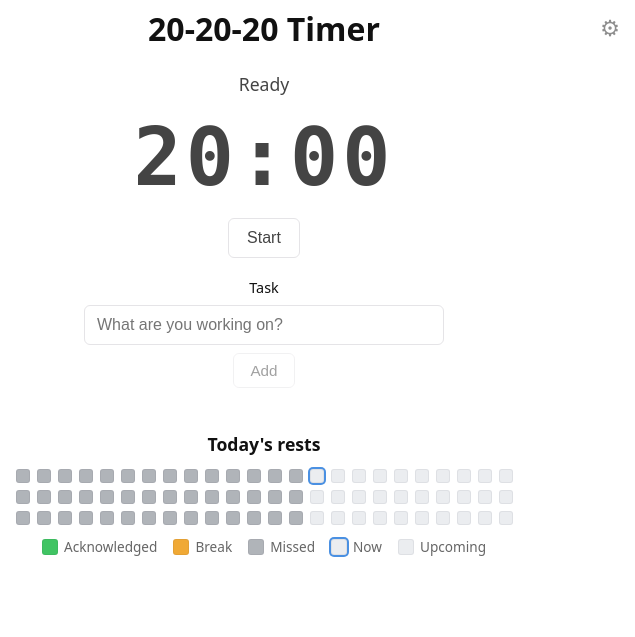
Scenario: 20-20-20 Timer › adds a task via the Add button
Step 1. Type "Read book" into the field with placeholder "What are you working on?" → (264, 325), box [84,305,444,345]
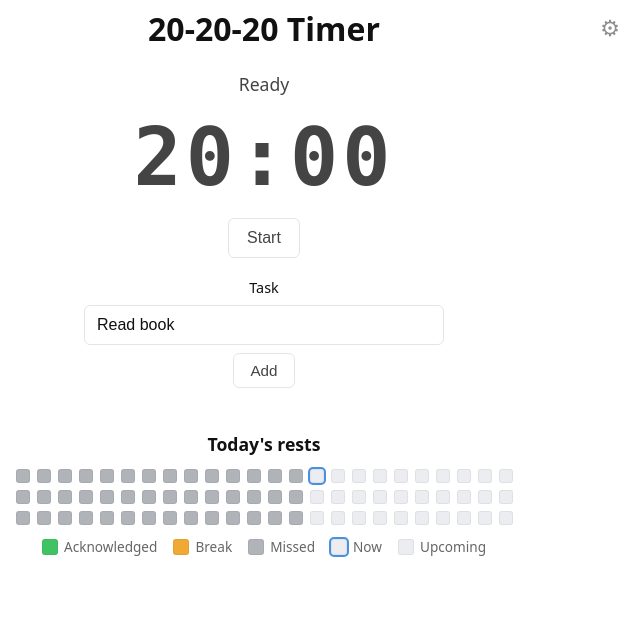
Step 2. Click the button "Add" → (264, 370), box [234,353,294,388]
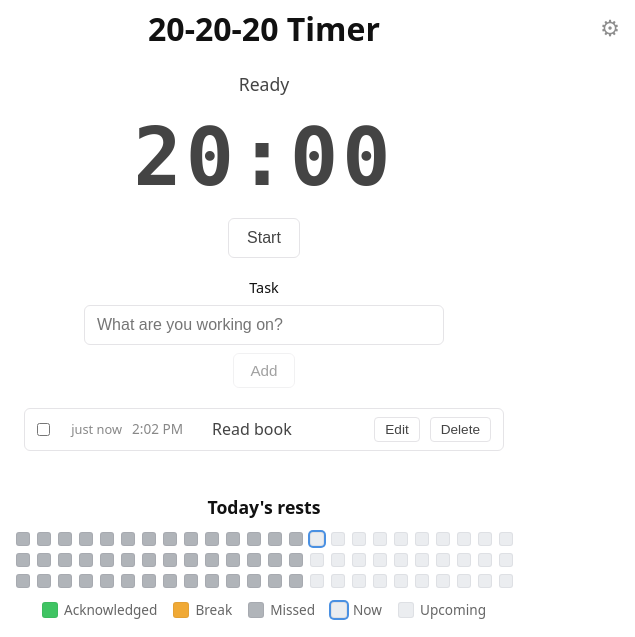
Check: the list named "tasks" shows "Read book", box [212,418,292,440]
